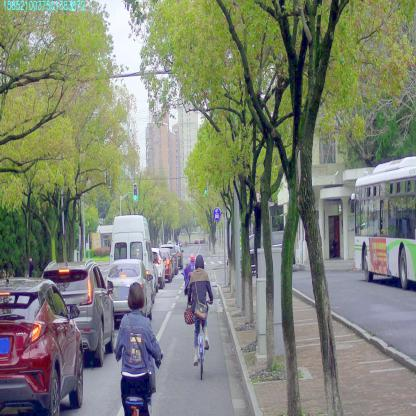traffic-light: (203, 177, 207, 196), (133, 184, 137, 200)
